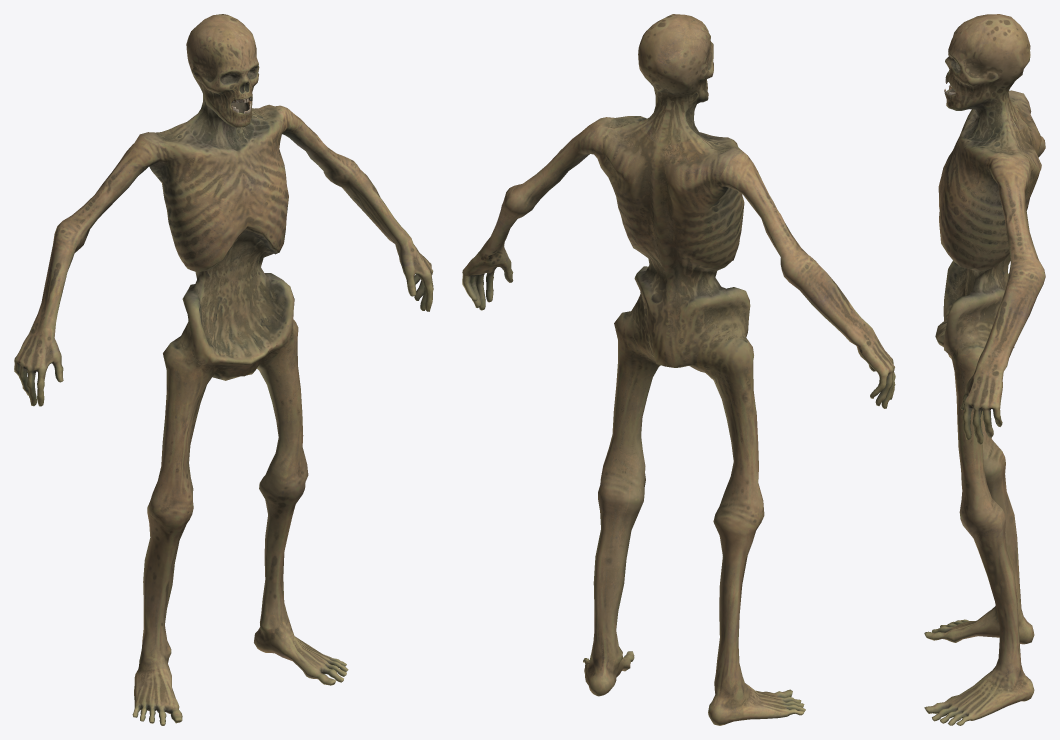
The model's file is zombie_corpse.glb.
3 renders of one model, left to right at view 1: azimuth 30°, elevation 25°; view 2: azimuth 150°, elevation 25°; view 3: azimuth 270°, elevation 25°, orthographic. The views are drawn at different scales.
Visible parts, largest first — view 1: Default_lambert1_0; view 2: Default_lambert1_0; view 3: Default_lambert1_0.
Boxes of the visible parts, box(x1,y1,x2,y2) form: Default_lambert1_0: box(14, 14, 433, 725); Default_lambert1_0: box(462, 14, 895, 725); Default_lambert1_0: box(924, 14, 1045, 725).
Size of the model in its own units: 0.0761 by 0.1173 by 0.0195.
Materials: 1 (1 with a texture image).
